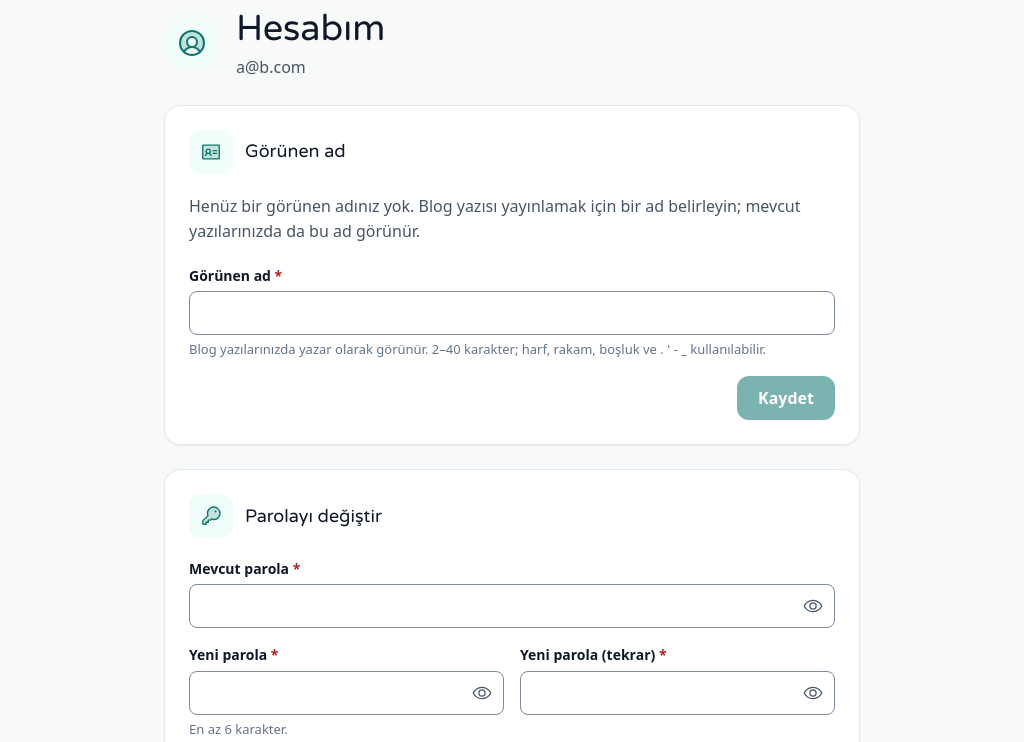
Test: Account › changes the password
The width and height of the screenshot is (1024, 742).
Expected: the heading "Hesabım" is shown, [236,6,385,51]
Type "old-pass" into the password field labelled "Mevcut parola *" at (512, 606), box [189,584,835,628]
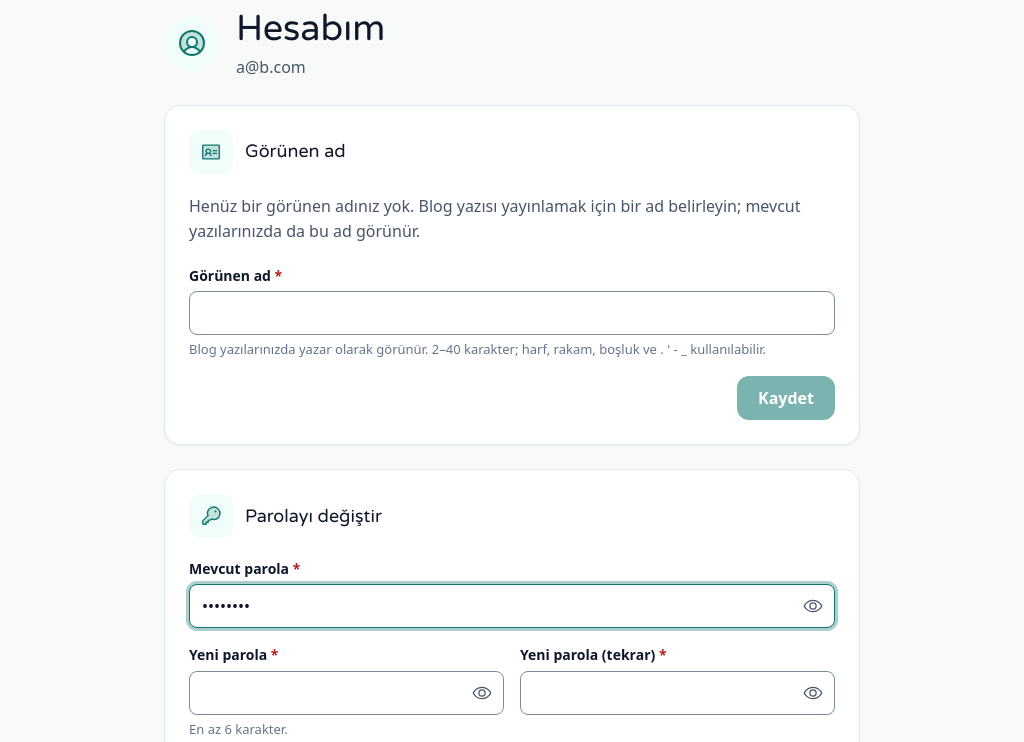
Type "new-pass" into the password field labelled "Yeni parola *" at (346, 693), box [189,671,504,715]
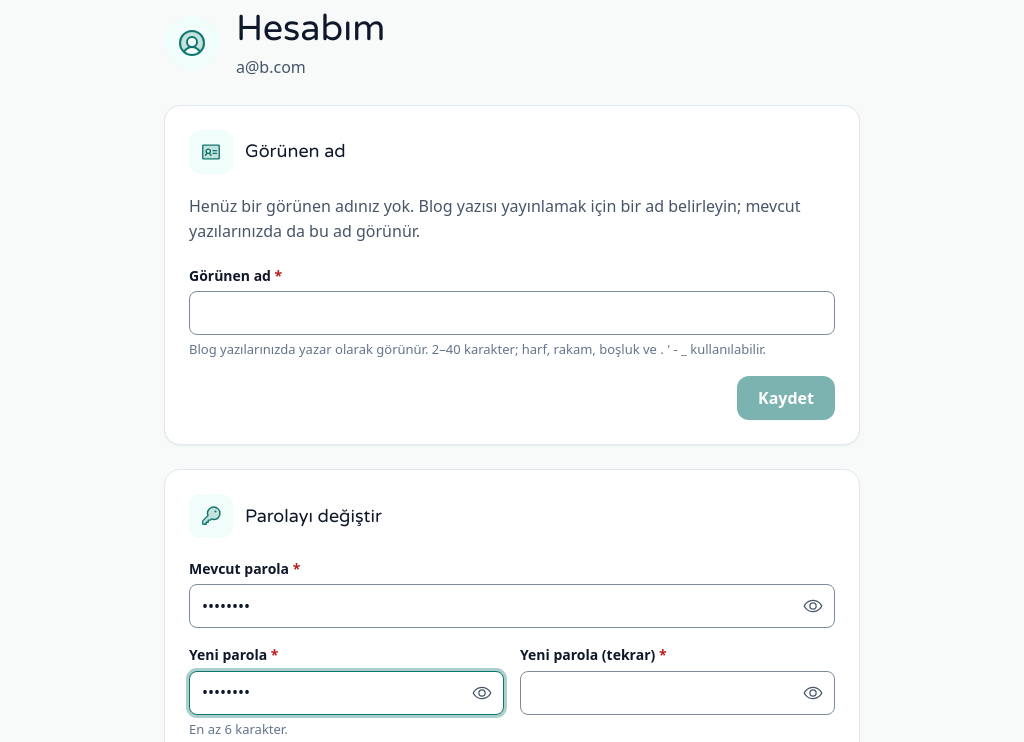
Type "new-pass" into the password field labelled "Yeni parola (tekrar) *" at (678, 693), box [520,671,835,715]
(page scrolled)
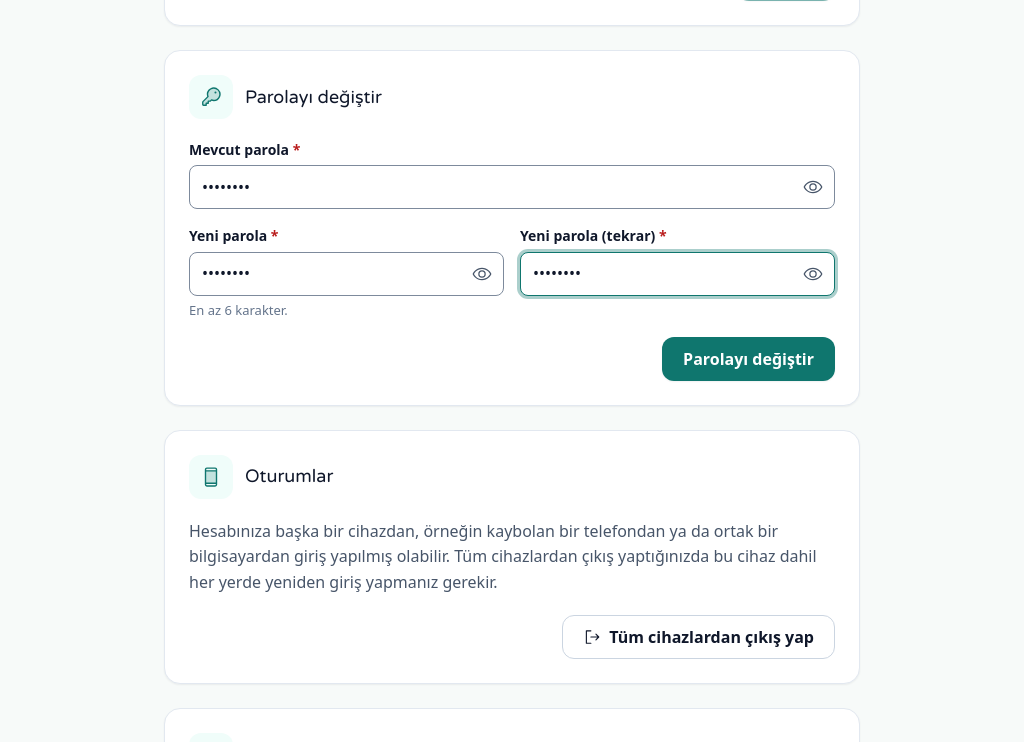
Click the button "Parolayı değiştir" at (749, 358), box [662,336,835,380]
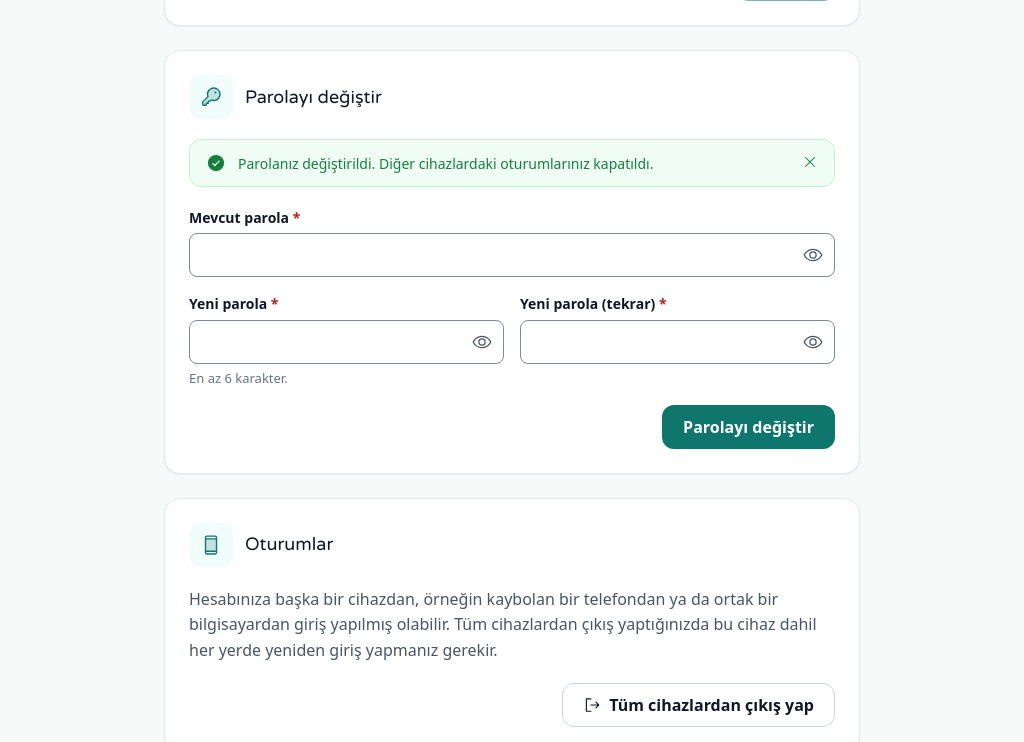
Expected: the text "Parolanız değiştirildi. Diğer cihazlardaki oturumlarınız kapatıldı." is shown, [238,154,653,173]
Expected: the password field labelled "Mevcut parola *" is empty, [189,233,835,277]
